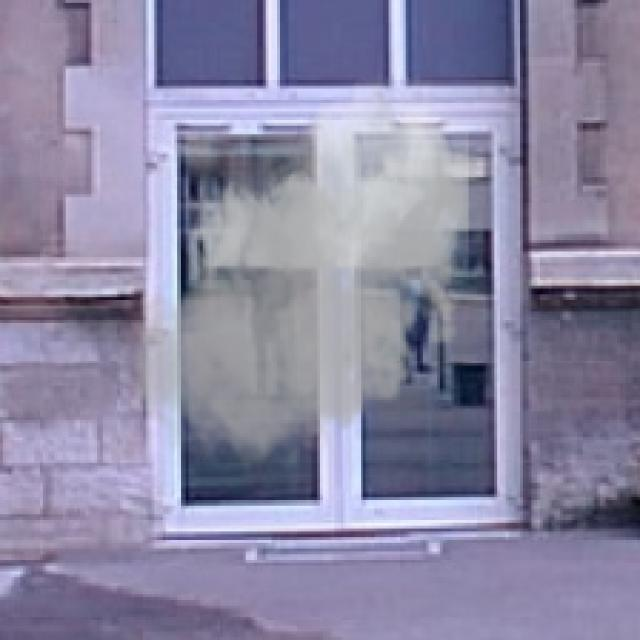smoke: (126, 77, 483, 480)
